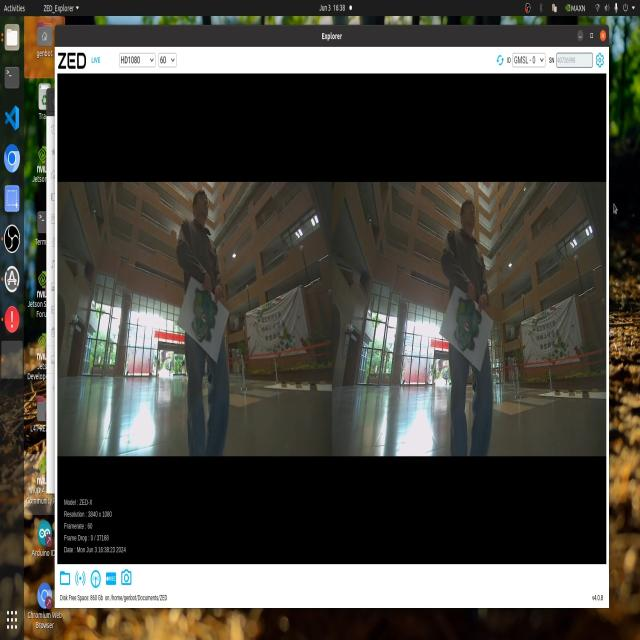green: (182, 288, 223, 350), (456, 289, 480, 347)
